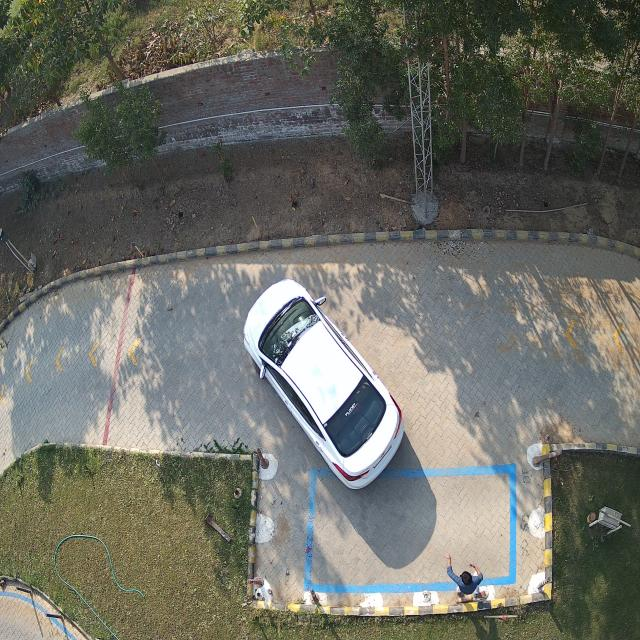car: (244, 280, 404, 490)
